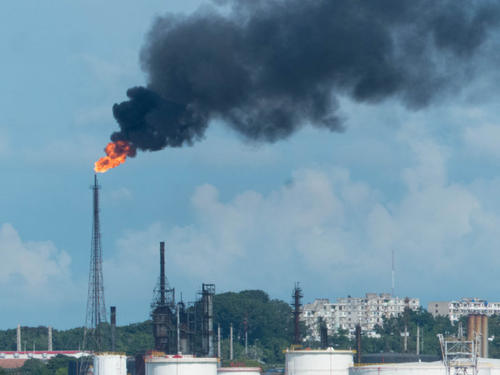smoke: (110, 1, 500, 152)
